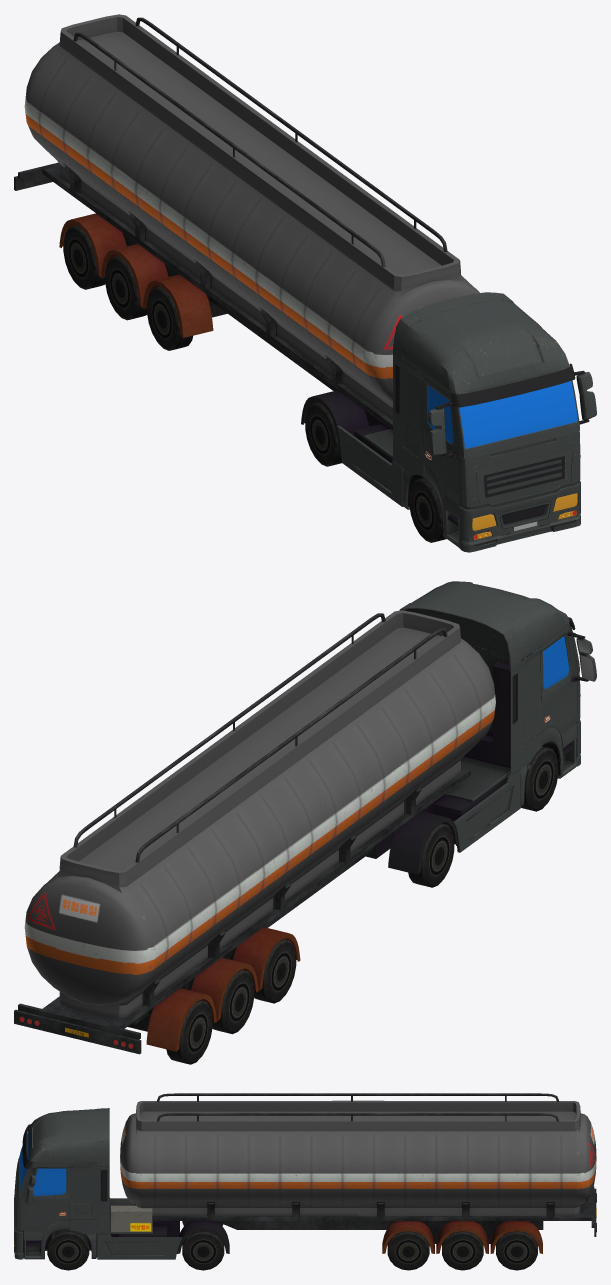
Rendered from vtruck.fbx.
3 views of the same model, one above another, from view 1: azimuth 30°, elevation 25°; view 2: azimuth 150°, elevation 25°; view 3: azimuth 270°, elevation 25° (orthographic). The views are drawn at different scales.
Visible parts, largest first — view 1: Trailer, Body, polySurface6, TruckDoorR1, WheelC, WheelA, WheelE, WheelD, WheelB, TruckDoorL; view 2: Trailer, Body, TruckDoorR1, WheelB, WheelE, WheelC, WheelA, WheelD, polySurface7; view 3: Trailer, Body, TruckDoorL, WheelA, WheelB, WheelC, WheelD, WheelE, BalveCover, polySurface5, polySurface6.
Part boxes in pixels (x1,y1,x2,y2): Trailer: (14,14,479,430); Body: (301,292,580,552); polySurface6: (459,381,577,448); TruckDoorR1: (424,376,461,519); WheelC: (147,286,192,350); WheelA: (409,477,446,542); WheelE: (63,225,105,289); WheelD: (105,256,147,320); WheelB: (305,402,341,466); TruckDoorL: (574,370,596,424); Trailer: (14,610,495,1054); Body: (366,581,580,874); TruckDoorR1: (539,625,596,747); WheelB: (408,823,454,887); WheelE: (166,1000,212,1064); WheelC: (254,939,296,1003); WheelA: (520,746,558,811); WheelD: (212,969,254,1034); polySurface7: (543,636,568,688); Trailer: (120,1093,596,1253); Body: (14,1108,229,1259); TruckDoorL: (23,1164,69,1240); WheelA: (47,1229,89,1270); WheelB: (182,1221,224,1270); WheelC: (387,1231,429,1270); WheelD: (442,1231,483,1270); WheelE: (496,1231,537,1270); BalveCover: (111,1211,152,1231); polySurface5: (33,1168,66,1195); polySurface6: (19,1131,28,1192).
Size of the model in its own units: 299 by 397 by 1410.
Materials: 6 (5 with a texture image).
